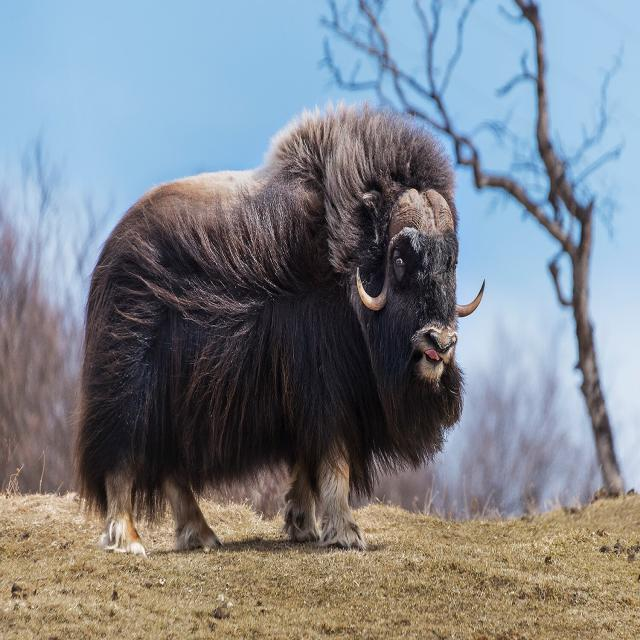Ox: (70, 97, 489, 551)
